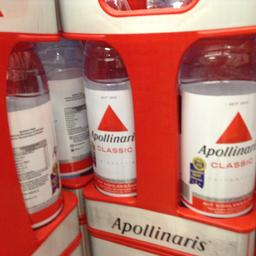water: (178, 34, 255, 217), (6, 42, 63, 228), (79, 40, 136, 194)
